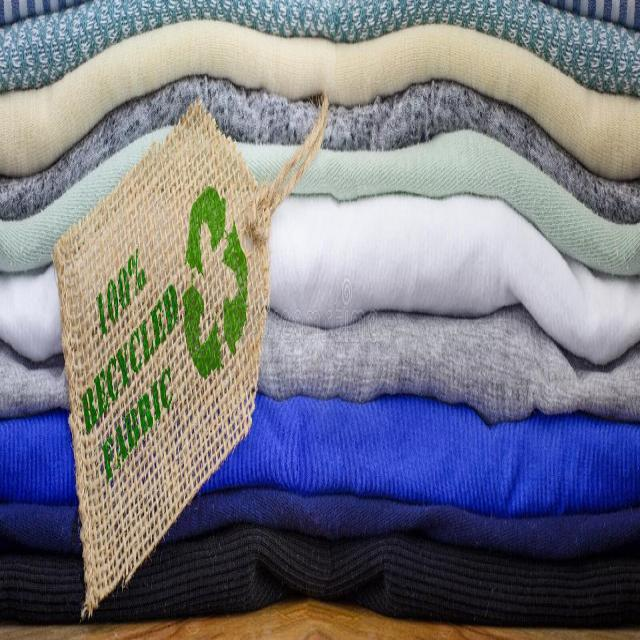clothes: (0, 2, 640, 640), (303, 64, 563, 592)
